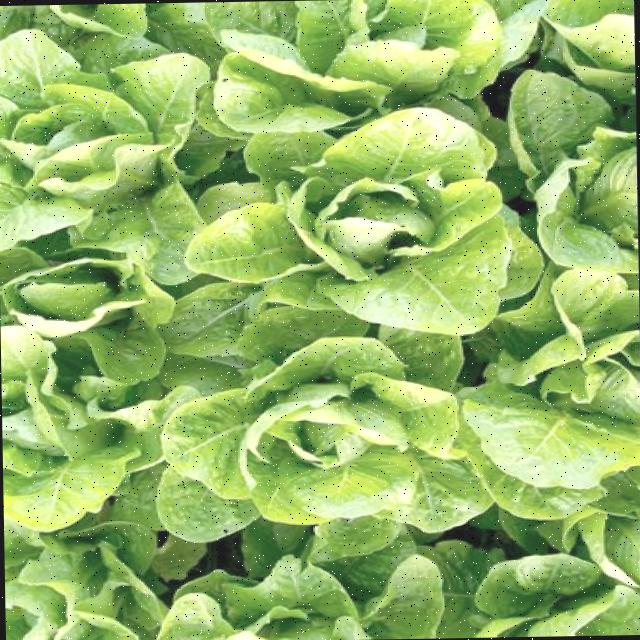healthy: (159, 336, 482, 565), (198, 107, 531, 324)
